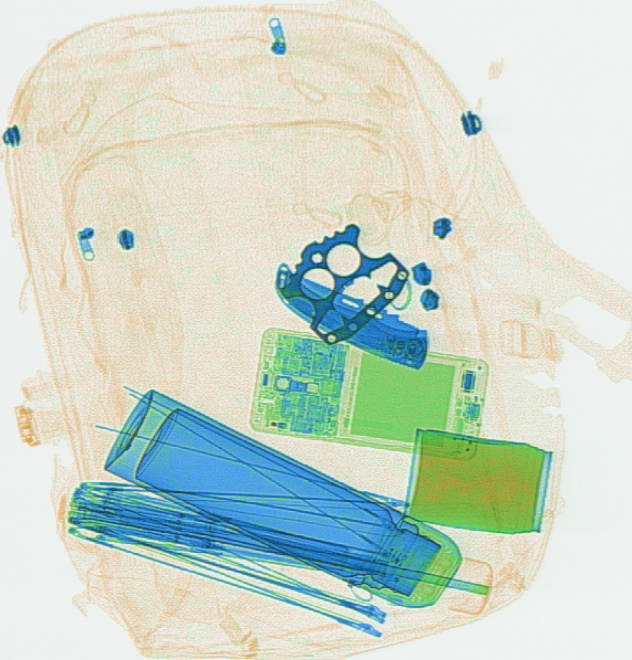knife: (276, 264, 430, 371)
